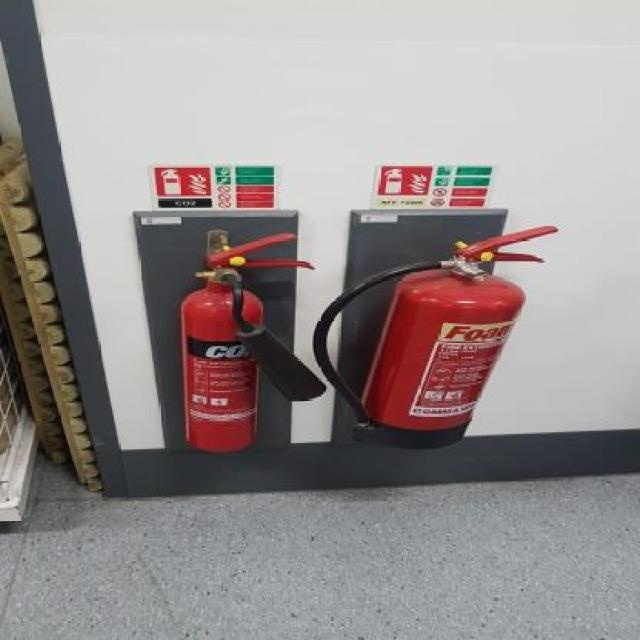fire extinguisher: (309, 225, 560, 449), (180, 232, 326, 453)
